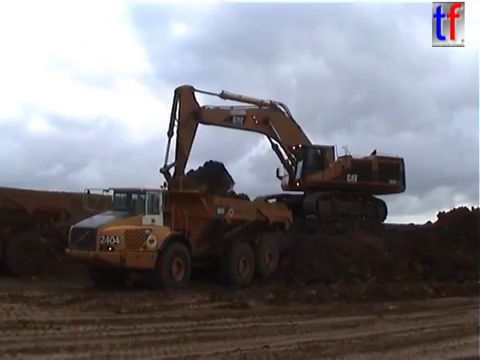excavator: (156, 82, 410, 227)
truck: (62, 180, 296, 292), (1, 182, 164, 280)
